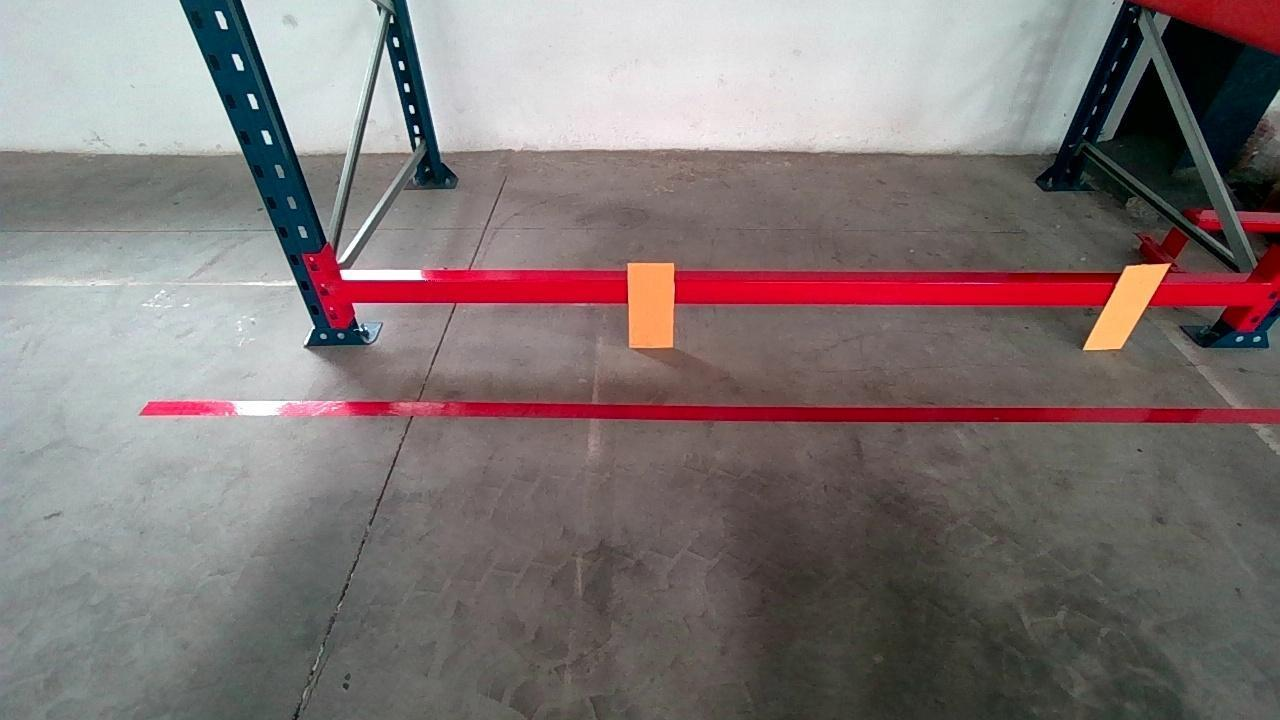h_rack: (342, 266, 1255, 303)
orange_strip: (1084, 264, 1169, 348), (628, 261, 676, 347)
red_line: (146, 395, 1271, 431)
